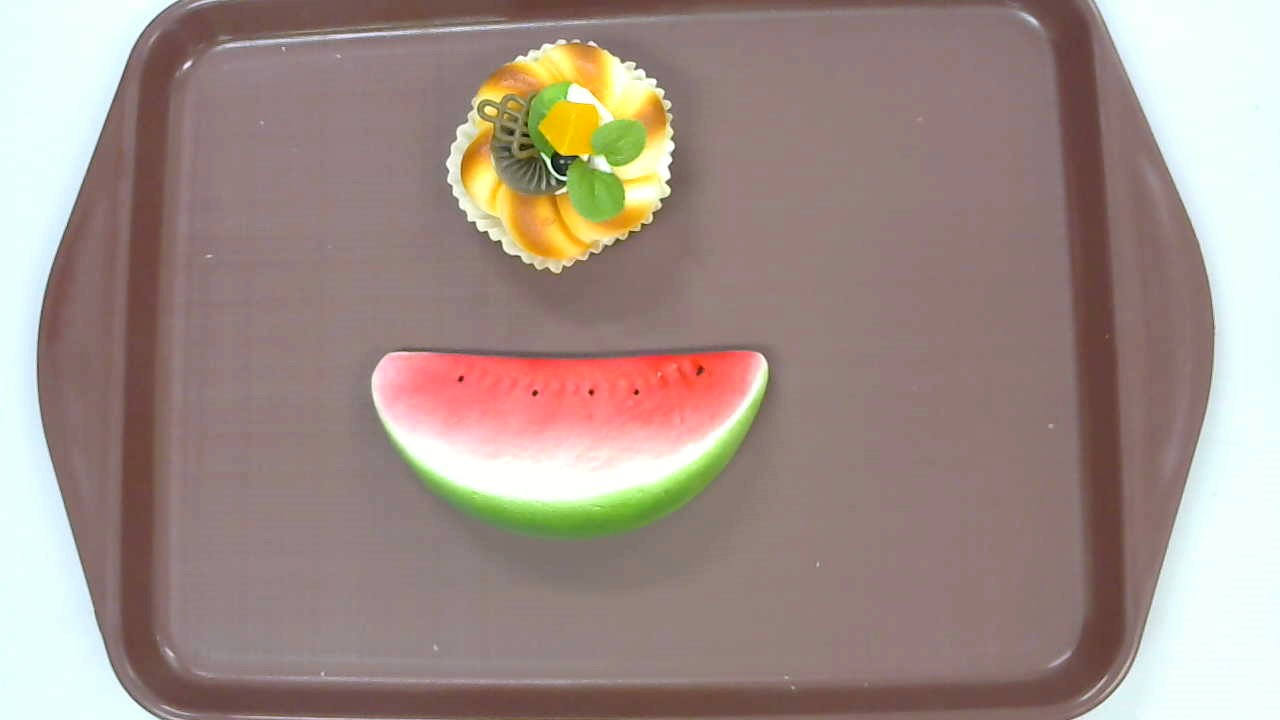fruit tart: (445, 39, 677, 276)
water melon: (370, 347, 767, 537)
